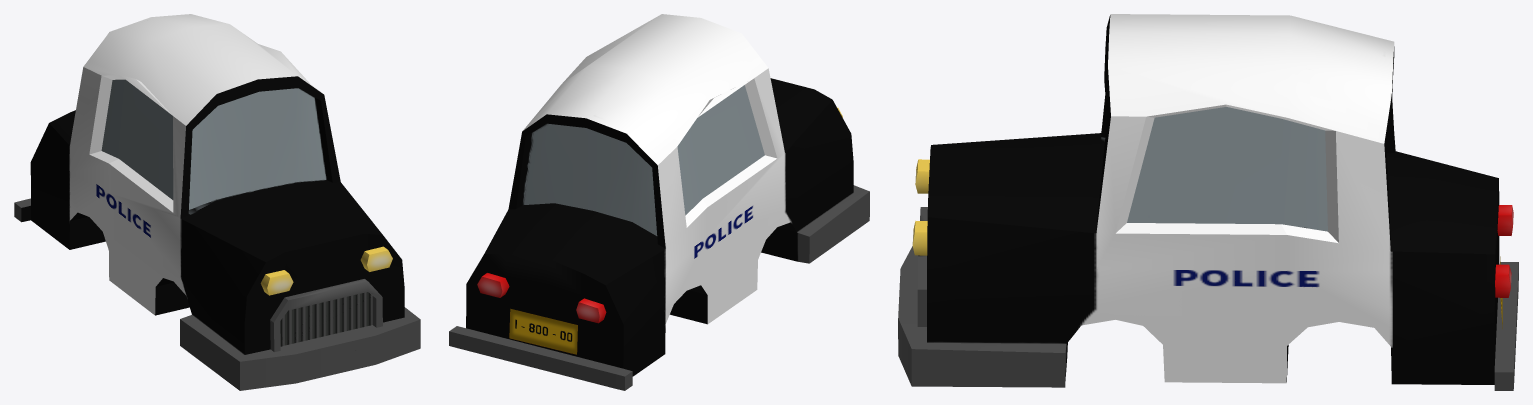
The model's file is Car_Export.fbx.
3 renders of one model, left to right at view 1: azimuth 30°, elevation 25°; view 2: azimuth 150°, elevation 25°; view 3: azimuth 270°, elevation 25°, orthographic. The views are drawn at different scales.
Parts seen in each view (by area): view 1: polySurface2; view 2: polySurface2, pPlane2; view 3: polySurface2.
Boxes of the visible parts, x1,y1,x2,y2 form: polySurface2: [14, 14, 420, 390]; polySurface2: [449, 14, 869, 390]; pPlane2: [509, 308, 577, 354]; polySurface2: [898, 14, 1518, 390].
Bounding box in the file's own units: 0.3171 × 0.3814 × 0.7148.
